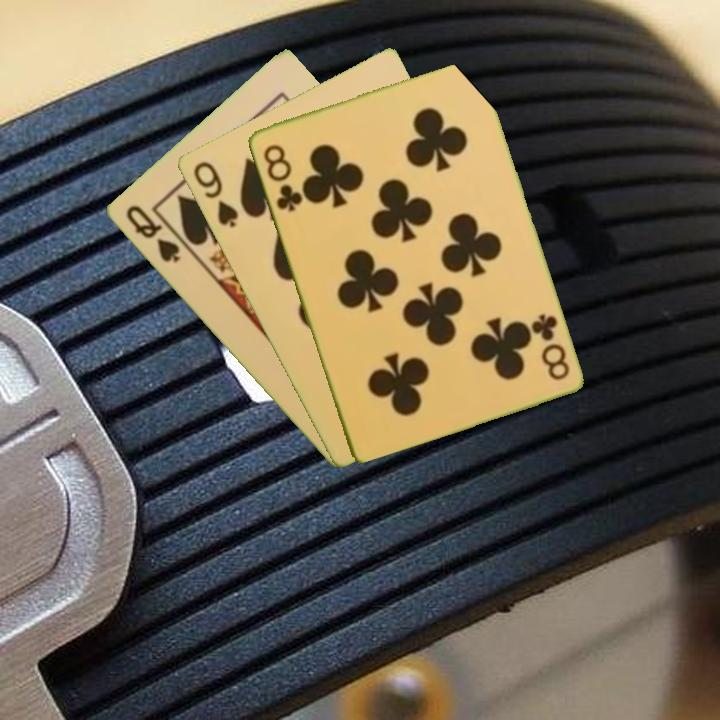8c: (259, 140, 305, 215), (527, 310, 572, 383)
9s: (189, 157, 241, 231)
Qs: (122, 201, 183, 266)
